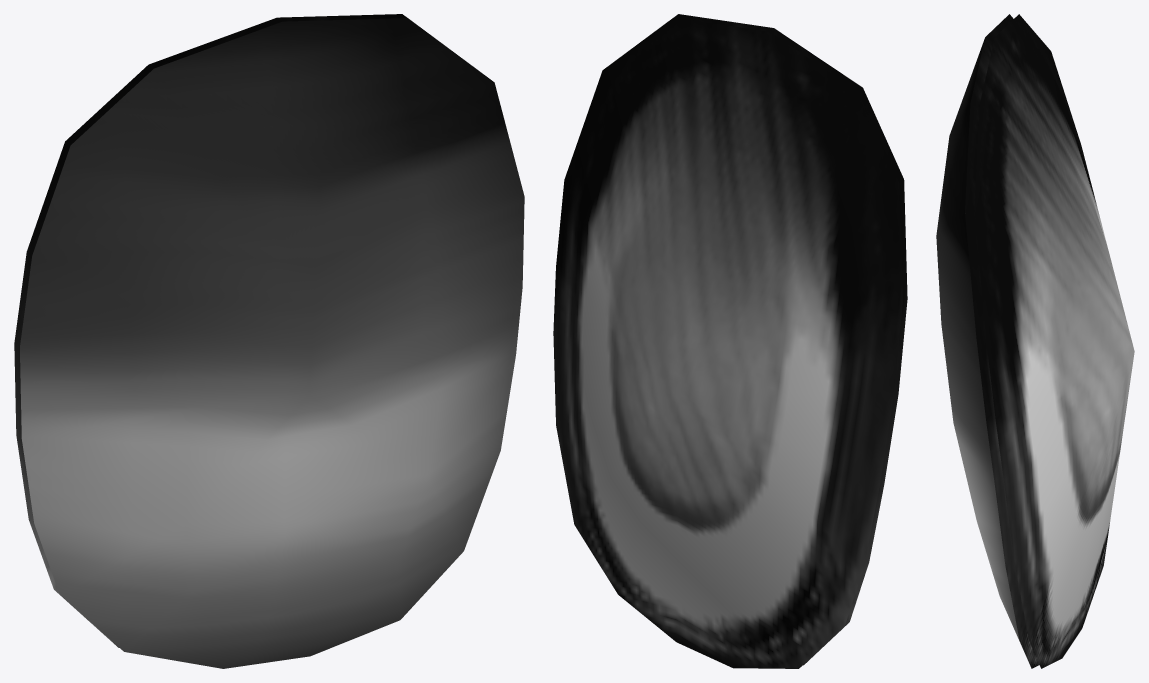
The model's file is mesh_Eye1_R.fbx.
3 renders of one model, left to right at view 1: azimuth 30°, elevation 25°; view 2: azimuth 150°, elevation 25°; view 3: azimuth 270°, elevation 25°, orthographic. The views are drawn at different scales.
Parts seen in each view (by area): view 1: mesh_Eye1_R_Cover, mesh_Eye1_R_back; view 2: mesh_Eye1_R_back, mesh_Eye1_R; view 3: mesh_Eye1_R_back, mesh_Eye1_R_Cover, mesh_Eye1_R.
Boxes of the visible parts, <box> form: mesh_Eye1_R_Cover: <box>20,18,524,668</box>; mesh_Eye1_R_back: <box>14,14,407,647</box>; mesh_Eye1_R_back: <box>553,17,902,668</box>; mesh_Eye1_R: <box>674,14,907,665</box>; mesh_Eye1_R_back: <box>974,14,1134,668</box>; mesh_Eye1_R_Cover: <box>936,38,1029,663</box>; mesh_Eye1_R: <box>965,14,1039,668</box>.
Size of the model in its own units: 4.65 by 6.84 by 2.07.
